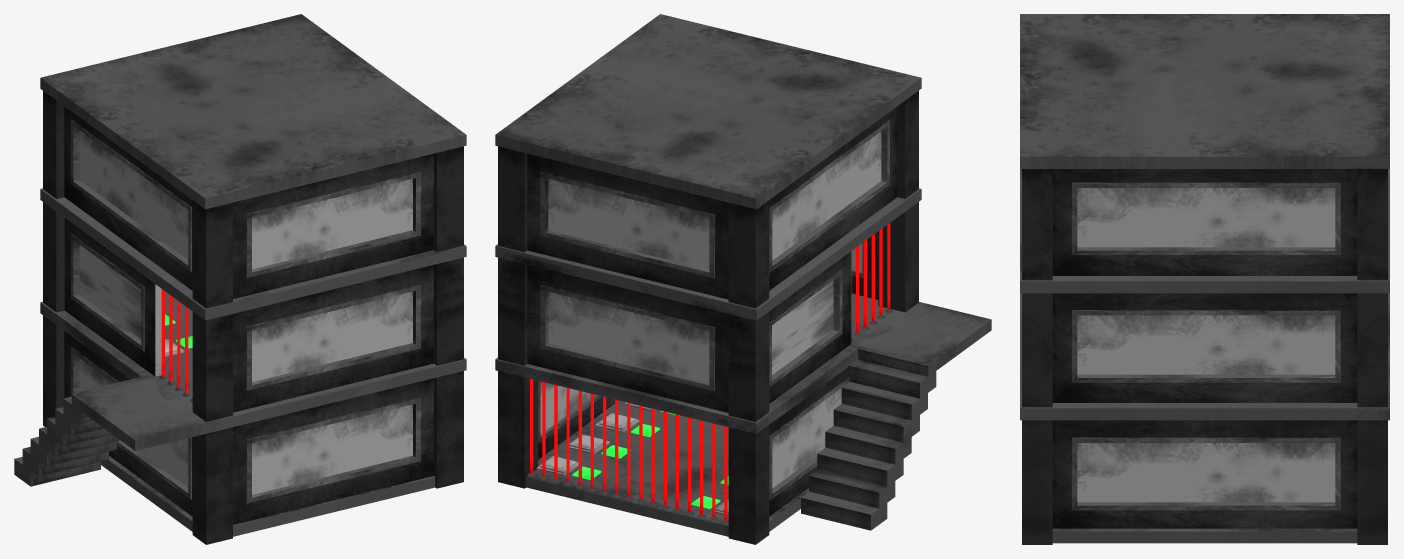
Rendered from house_brainrot_parts.fbx.
3 views of the same model, side by side, from view 1: azimuth 30°, elevation 25°; view 2: azimuth 150°, elevation 25°; view 3: azimuth 270°, elevation 25° (orthographic). The views are drawn at different scales.
Visible parts, largest first — view 1: Object091, Object089, Object110, Object108, Object095, Object098, Object115, Object096, Object103, Object104, Object090, Object093 (+13 smaller); view 2: Object091, Object089, Object093, Object092, Object094, Object160, Object155, Object099, Object100, Object090, Object110, Object111 (+13 smaller); view 3: Object091, Object106, Object105, Object107, Object148, Object143, Object149, Object094, Object108, Object089, Object090, Object092 (+3 smaller).
Part boxes in pixels (box(x1,y1,x2,y2)): Object091: box(40, 14, 466, 209); Object089: box(14, 291, 466, 486); Object110: box(192, 200, 232, 544); Object108: box(434, 146, 463, 488); Object095: box(233, 265, 433, 412); Object098: box(233, 378, 433, 524); Object115: box(233, 153, 433, 298); Object096: box(252, 404, 412, 494); Object103: box(252, 291, 412, 381); Object104: box(252, 178, 412, 269); Object090: box(40, 188, 466, 320); Object093: box(43, 91, 64, 426); Object091: box(495, 14, 921, 209); Object089: box(495, 293, 991, 530); Object093: box(728, 200, 769, 544); Object092: box(526, 400, 808, 536); Object094: box(498, 146, 538, 488); Object160: box(527, 265, 728, 412); Object155: box(527, 153, 728, 299); Object099: box(548, 179, 709, 269); Object100: box(548, 292, 709, 382); Object090: box(495, 188, 921, 320); Object110: box(878, 91, 918, 312); Object111: box(772, 131, 881, 260); Object091: box(1020, 14, 1389, 168); Object106: box(1077, 315, 1335, 374); Object105: box(1077, 188, 1335, 247); Object107: box(1077, 443, 1335, 502); Object148: box(1052, 293, 1357, 402); Object143: box(1052, 420, 1357, 528); Object149: box(1052, 169, 1357, 275); Object094: box(1357, 169, 1387, 544); Object108: box(1022, 169, 1052, 544); Object089: box(1020, 293, 1389, 420); Object090: box(1020, 169, 1389, 293); Object092: box(1052, 528, 1357, 543).
Bounding box in the file's own units: 3005 × 3010 × 2593.
